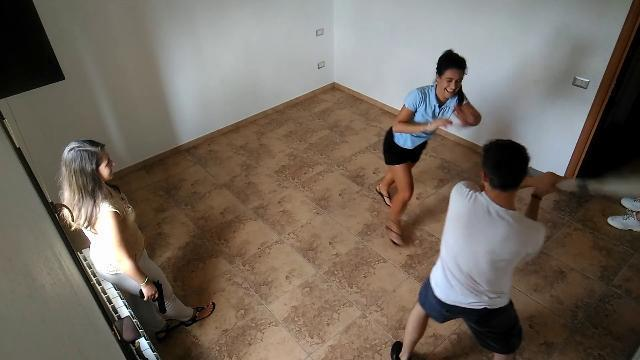non-violence: (54, 138, 218, 344)
violence: (376, 50, 610, 358)
weapon: (139, 283, 166, 315)
